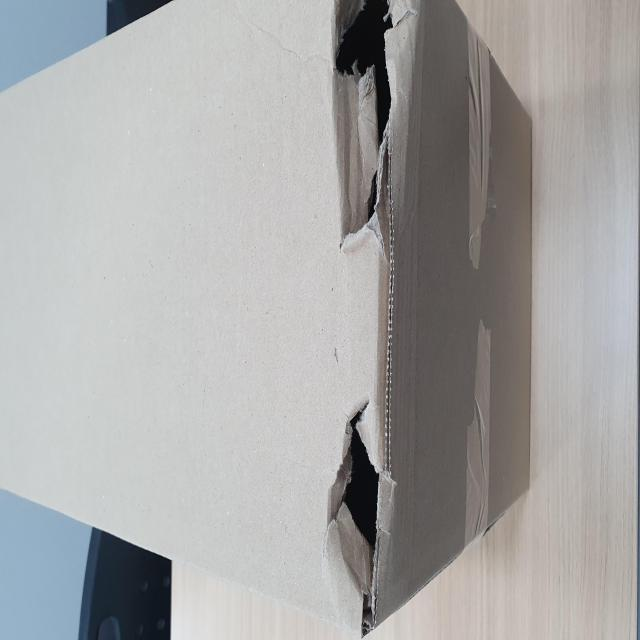damaged: (223, 582, 359, 640), (13, 594, 136, 640)
